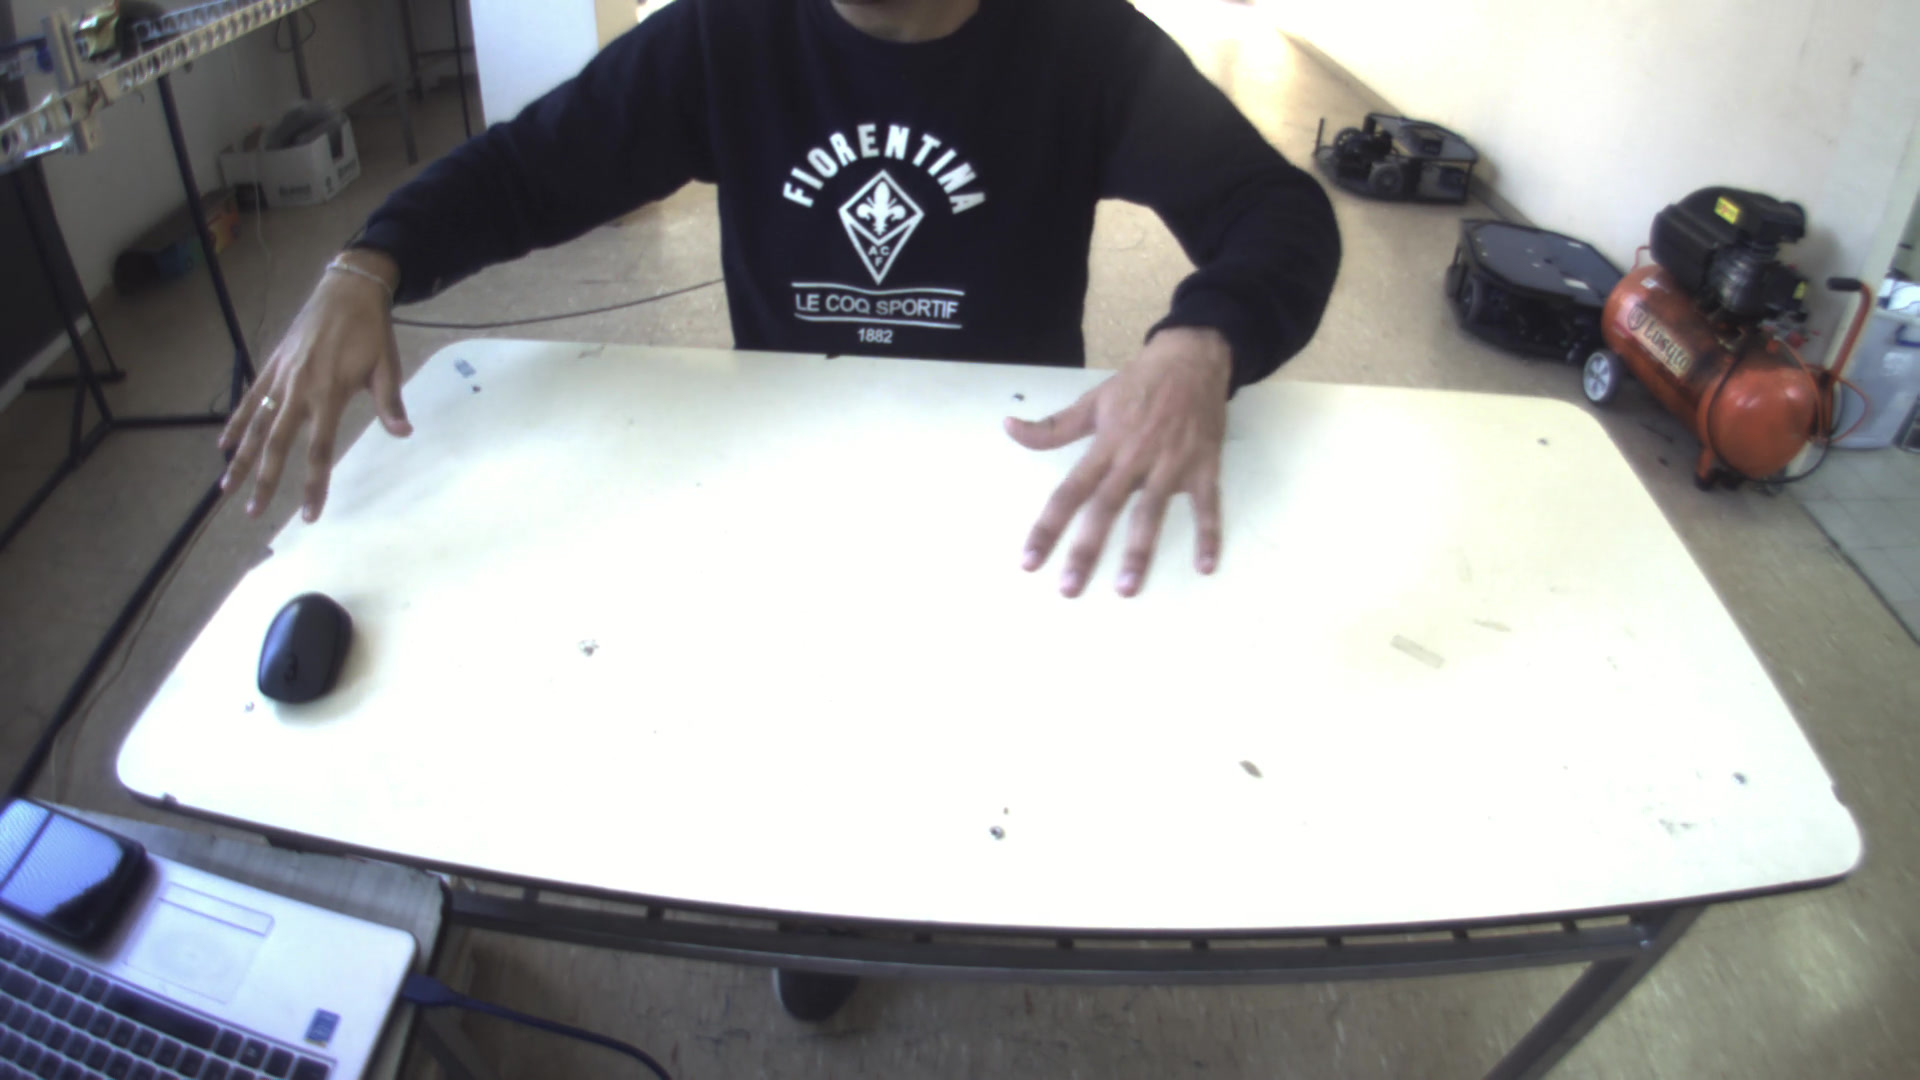hand: (990, 332, 1247, 611), (202, 251, 411, 533)
